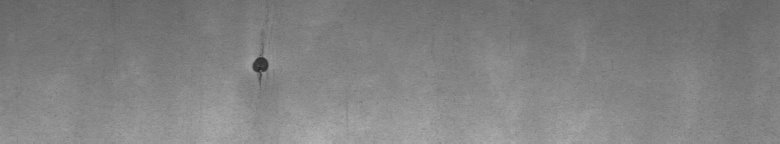fi: (245, 31, 276, 85)
